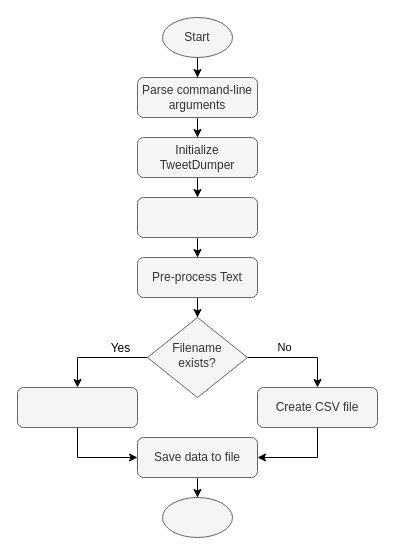
This 395x555 diagram has some shape labels left out. Here are the shapes that lost their labels. From the top down, the centre of each, then its label:
At point 197,217: "Fetch Tweets".
At point 77,407: "Open CSV file".
At point 197,517: "End".
